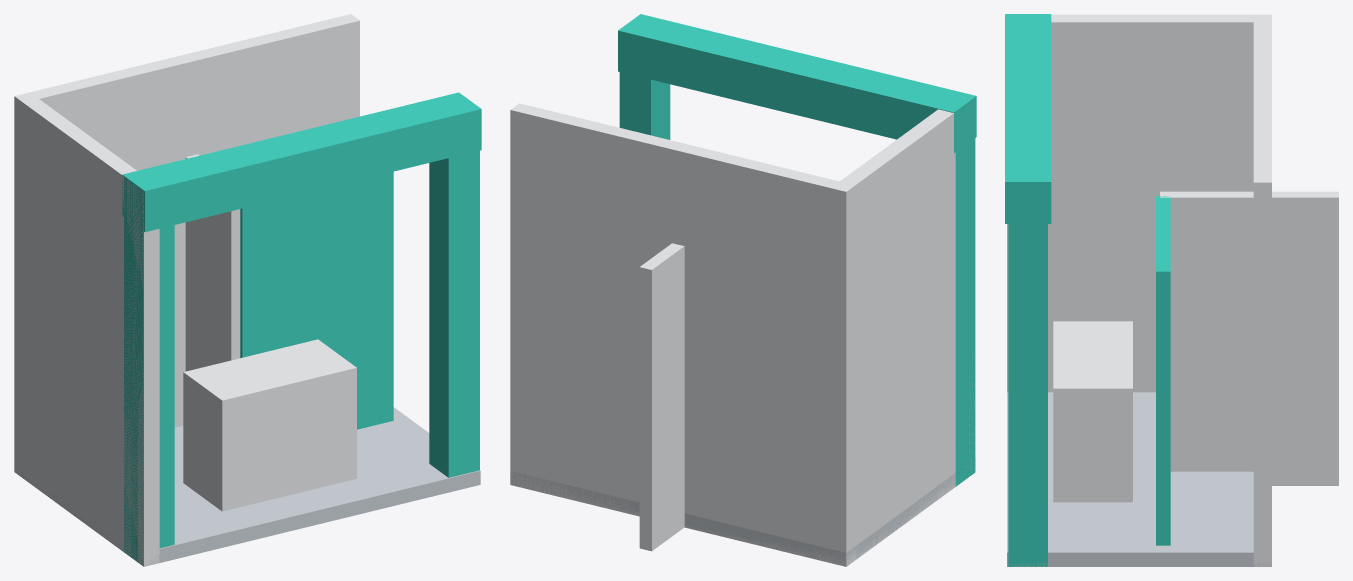
The picture shows the model from 3 angles, left to right: view 1: azimuth 30°, elevation 25°; view 2: azimuth 150°, elevation 25°; view 3: azimuth 270°, elevation 25°; orthographic projection. The views are drawn at different scales.
Parts seen in each view (by area): view 1: Exhibition Booth Concept; view 2: Exhibition Booth Concept; view 3: Exhibition Booth Concept.
Part boxes in pixels (box(x1,y1,x2,y2)): Exhibition Booth Concept: box(14, 14, 481, 566); Exhibition Booth Concept: box(510, 14, 976, 566); Exhibition Booth Concept: box(1005, 14, 1338, 566).
Bounding box in the file's own units: 3 × 3.2 × 2.52.
